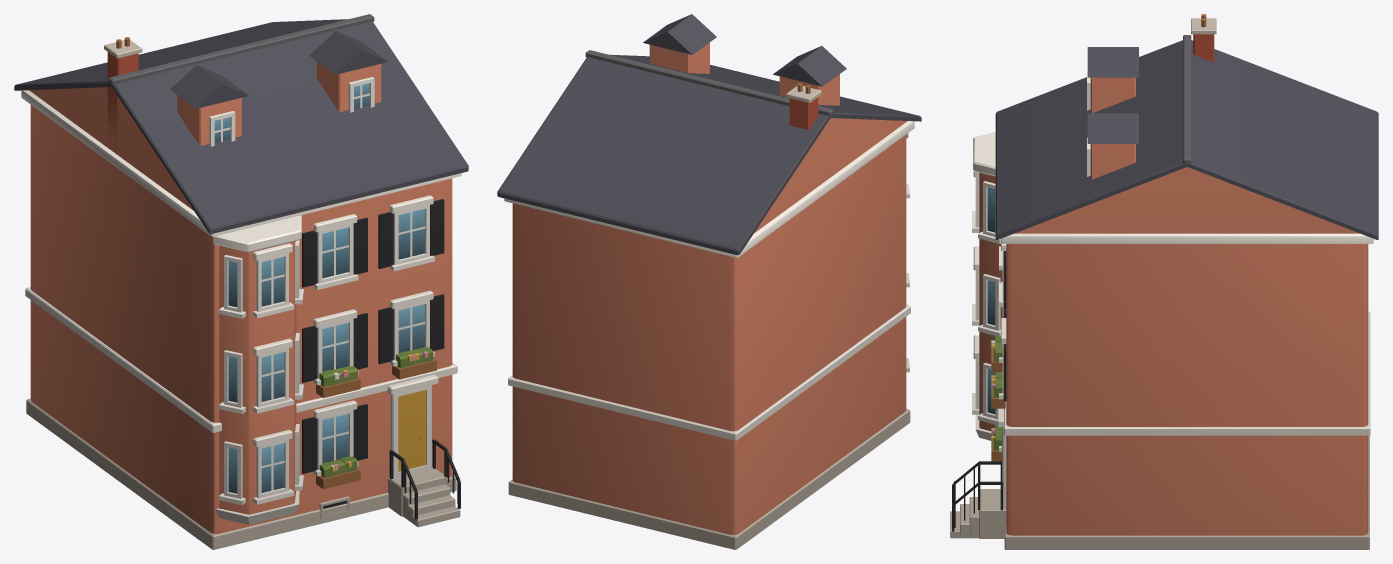
File: lane_w5.glb
3 views of the same model, side by side, from view 1: azimuth 30°, elevation 25°; view 2: azimuth 150°, elevation 25°; view 3: azimuth 270°, elevation 25° (orthographic). The views are drawn at different scales.
Parts seen in each view (by area): view 1: lane_w5; view 2: lane_w5; view 3: lane_w5.
Part boxes in pixels (x1=…): lane_w5: x1=14, y1=14, x2=468, y2=549; lane_w5: x1=497, y1=14, x2=921, y2=549; lane_w5: x1=950, y1=14, x2=1378, y2=549.
Size of the model in its own units: 9.8 by 15.45 by 14.21.
1 material, 1 textured.
